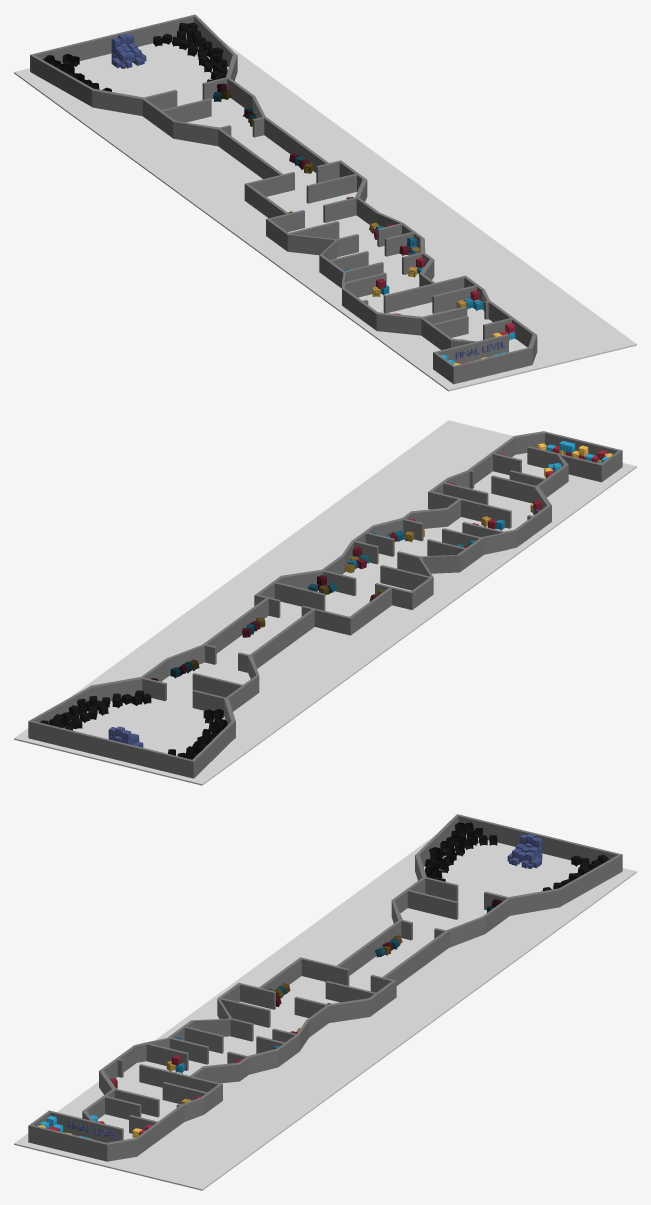
Rendered from level5.fbx.
3 views of the same model, one above another, from view 1: azimuth 30°, elevation 25°; view 2: azimuth 150°, elevation 25°; view 3: azimuth 330°, elevation 25° (orthographic).
Visible parts, largest first — view 1: ground, walls, box; view 2: ground, walls, box; view 3: ground, walls, box.
Part boxes in pixels (left/top/right/bottom): ground: left=14, top=35, right=636, bottom=391; walls: left=30, top=14, right=537, bottom=384; box: left=42, top=22, right=515, bottom=365; ground: left=14, top=420, right=636, bottom=785; walls: left=28, top=431, right=622, bottom=778; box: left=39, top=441, right=612, bottom=759; ground: left=14, top=835, right=636, bottom=1190; walls: left=28, top=814, right=622, bottom=1161; box: left=38, top=822, right=609, bottom=1139.
Bounding box in the file's own units: 13115 × 1641 × 52404.
